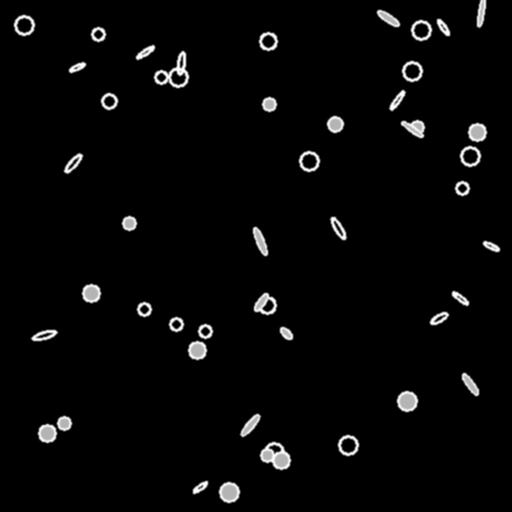pseudomonas: (239, 412, 261, 438), (252, 227, 268, 255), (63, 152, 83, 174), (329, 216, 347, 240), (376, 9, 400, 27), (401, 120, 423, 138), (388, 89, 406, 111), (461, 373, 479, 395), (252, 292, 270, 312), (135, 44, 155, 60), (31, 329, 57, 341), (451, 290, 469, 306), (429, 311, 449, 325), (476, 0, 486, 26), (436, 18, 450, 36), (279, 325, 293, 341), (192, 480, 208, 494), (176, 52, 186, 74), (68, 61, 86, 73), (483, 240, 499, 252)
synechocystis: (265, 443, 283, 461), (220, 483, 238, 501), (169, 68, 187, 86), (403, 62, 421, 80), (398, 392, 416, 410), (461, 147, 479, 165), (15, 16, 33, 34), (300, 152, 318, 170), (412, 21, 430, 39), (339, 436, 357, 454), (39, 425, 55, 441), (83, 285, 99, 301), (273, 452, 289, 468), (469, 124, 485, 140), (259, 297, 275, 313), (260, 33, 276, 49), (189, 342, 205, 358), (328, 117, 342, 131), (102, 94, 116, 108), (170, 318, 182, 330), (456, 182, 468, 194), (92, 28, 104, 40), (263, 98, 275, 110), (411, 121, 423, 133), (261, 449, 273, 461), (155, 71, 167, 83), (123, 217, 135, 229), (138, 303, 150, 315), (58, 417, 70, 429), (199, 325, 211, 337)
